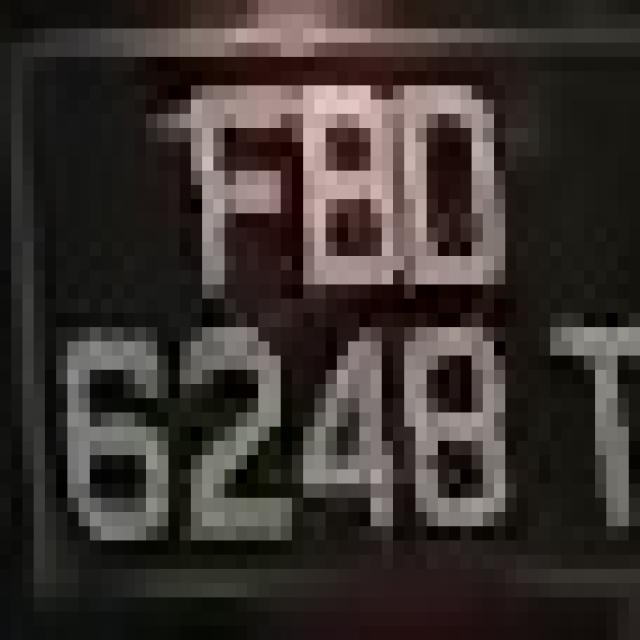2: (157, 284, 303, 554)
4: (270, 299, 404, 569)
6: (45, 256, 180, 569)
8: (404, 313, 517, 569)
B: (258, 57, 382, 284)
D: (382, 57, 494, 313)
F: (135, 43, 303, 313)
T: (9, 6, 11, 13)
